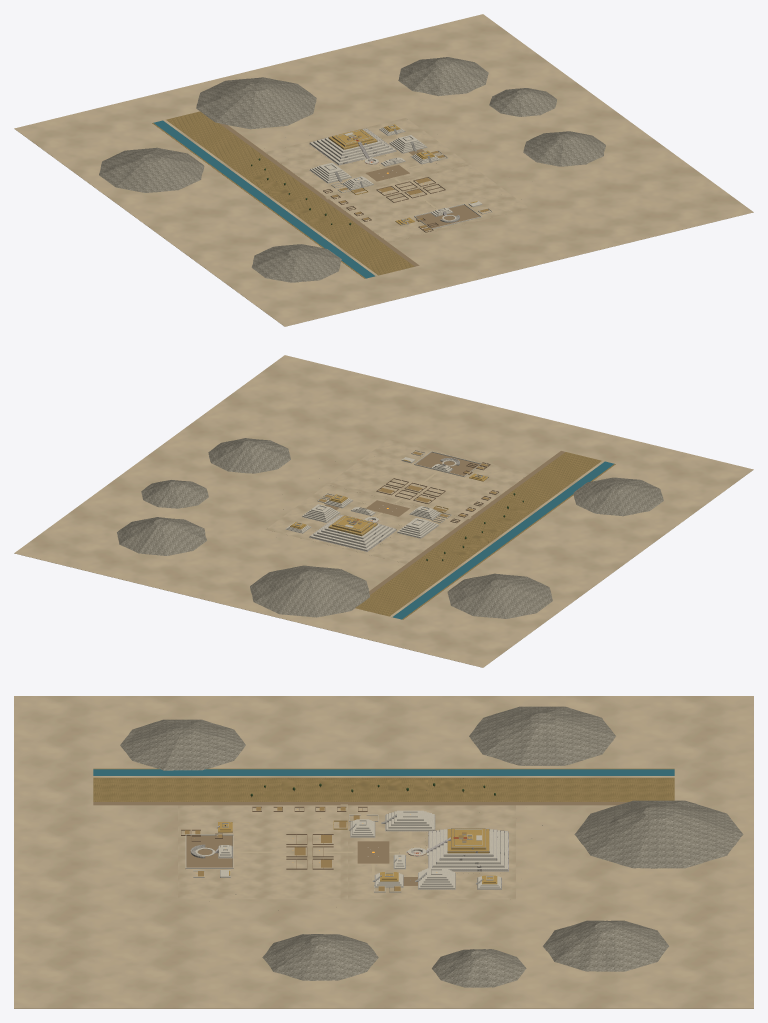
3 renders of one model, top to bottom at view 1: azimuth 30°, elevation 25°; view 2: azimuth 150°, elevation 25°; view 3: azimuth 270°, elevation 25°, orthographic. The views are drawn at different scales.
Visible parts, largest first — view 1: GEO-Caral_LOD0_Infra_Terrain, GEO-Caral_LOD0_Infra_UpperHalf, GEO-Caral_LOD0_Mayor, GEO-Caral_LOD0_Infra_Residential, GEO-Caral_LOD0_Anfiteatro; view 2: GEO-Caral_LOD0_Infra_Terrain, GEO-Caral_LOD0_Infra_UpperHalf, GEO-Caral_LOD0_Mayor, GEO-Caral_LOD0_Infra_Residential, GEO-Caral_LOD0_Anfiteatro; view 3: GEO-Caral_LOD0_Infra_Terrain, GEO-Caral_LOD0_Infra_UpperHalf, GEO-Caral_LOD0_Mayor, GEO-Caral_LOD0_Anfiteatro, GEO-Caral_LOD0_Infra_Residential.
Part boxes in pixels (left/top/right/bottom): GEO-Caral_LOD0_Infra_Terrain: left=14, top=14, right=753, bottom=326; GEO-Caral_LOD0_Infra_UpperHalf: left=309, top=124, right=439, bottom=190; GEO-Caral_LOD0_Mayor: left=309, top=128, right=396, bottom=165; GEO-Caral_LOD0_Infra_Residential: left=323, top=150, right=447, bottom=221; GEO-Caral_LOD0_Anfiteatro: left=414, top=204, right=481, bottom=228; GEO-Caral_LOD0_Infra_Terrain: left=14, top=355, right=753, bottom=667; GEO-Caral_LOD0_Infra_UpperHalf: left=285, top=494, right=440, bottom=538; GEO-Caral_LOD0_Mayor: left=309, top=515, right=396, bottom=551; GEO-Caral_LOD0_Infra_Residential: left=317, top=478, right=498, bottom=523; GEO-Caral_LOD0_Anfiteatro: left=414, top=451, right=481, bottom=476; GEO-Caral_LOD0_Infra_Terrain: left=14, top=696, right=753, bottom=1008; GEO-Caral_LOD0_Infra_UpperHalf: left=349, top=810, right=501, bottom=889; GEO-Caral_LOD0_Mayor: left=426, top=828, right=508, bottom=871; GEO-Caral_LOD0_Anfiteatro: left=185, top=834, right=233, bottom=868; GEO-Caral_LOD0_Infra_Residential: left=252, top=806, right=401, bottom=892.
Size of the model in its own units: 1400 by 51.68 by 1400.
21 materials, 13 textured.
